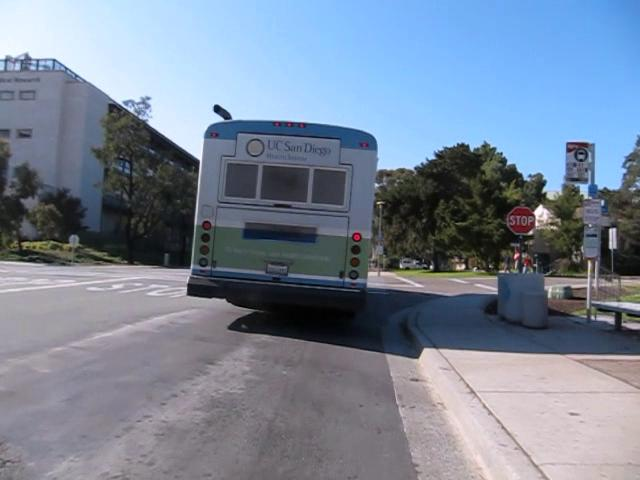stop: (505, 205, 536, 235)
